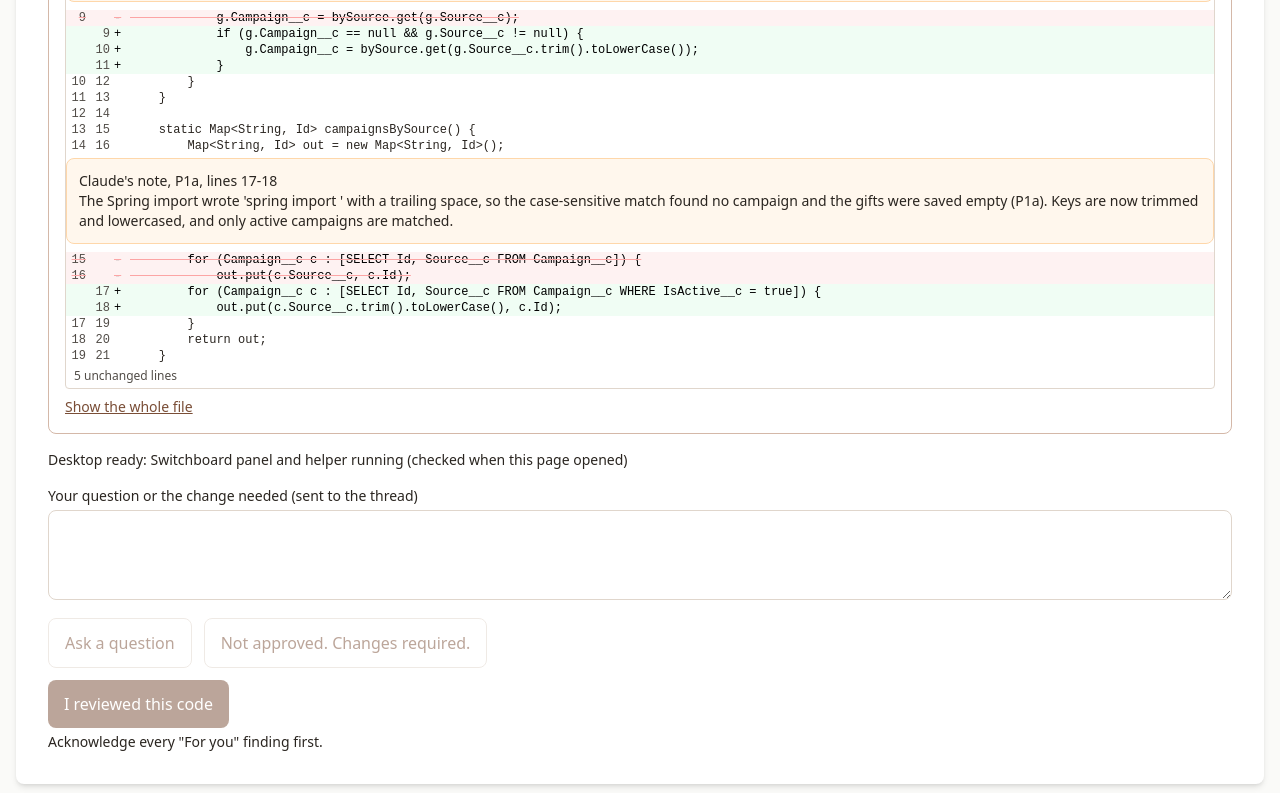
the code review page, on sample data › a changed file: changes with context, its labels, notes directly above the change, and Show the whole file
(page scrolled)
Click the button with test id "review-whole" at coordinates (129, 407), box [65, 397, 193, 417]
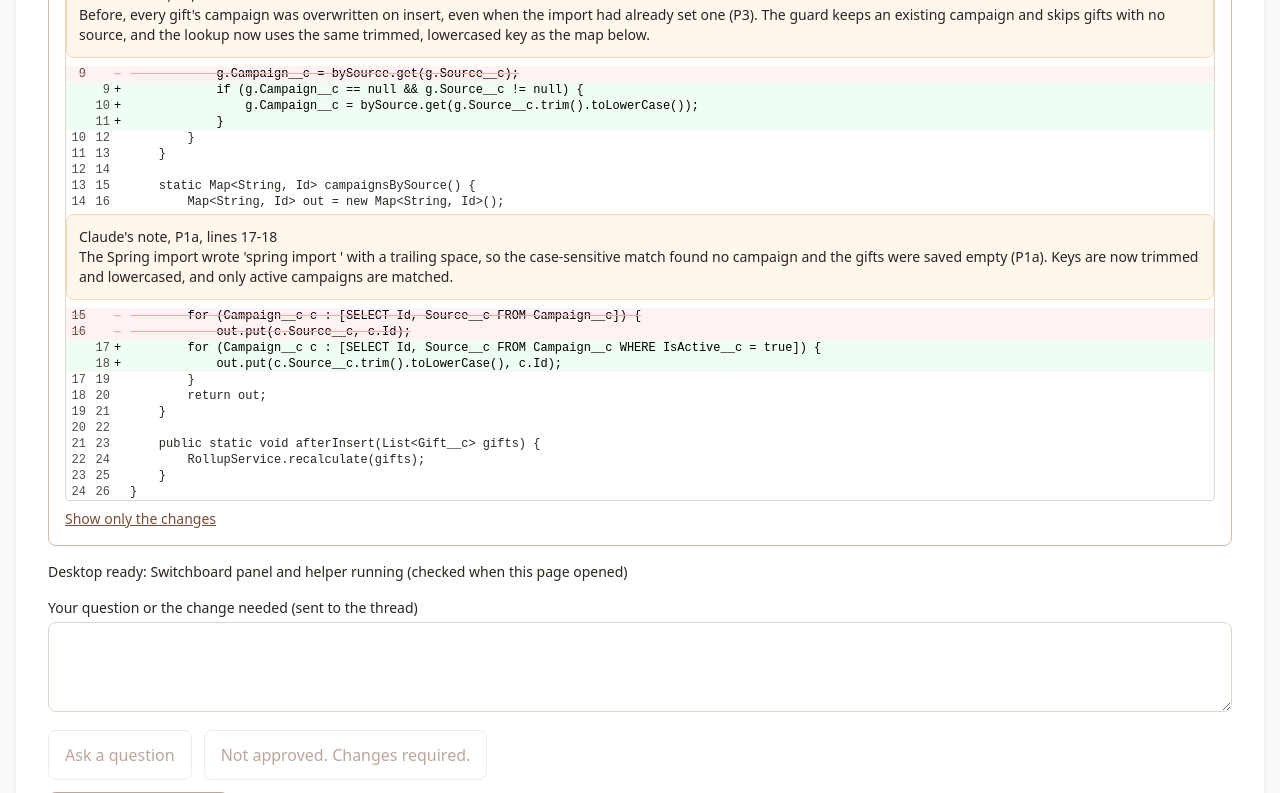
Check: the button with test id "review-whole" reads "Show only the changes", box [65, 509, 216, 529]
